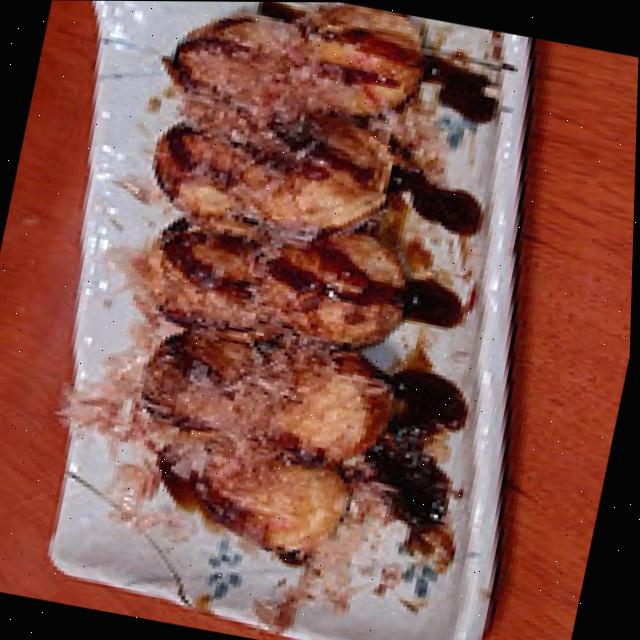炸货点心: (47, 0, 497, 565)
